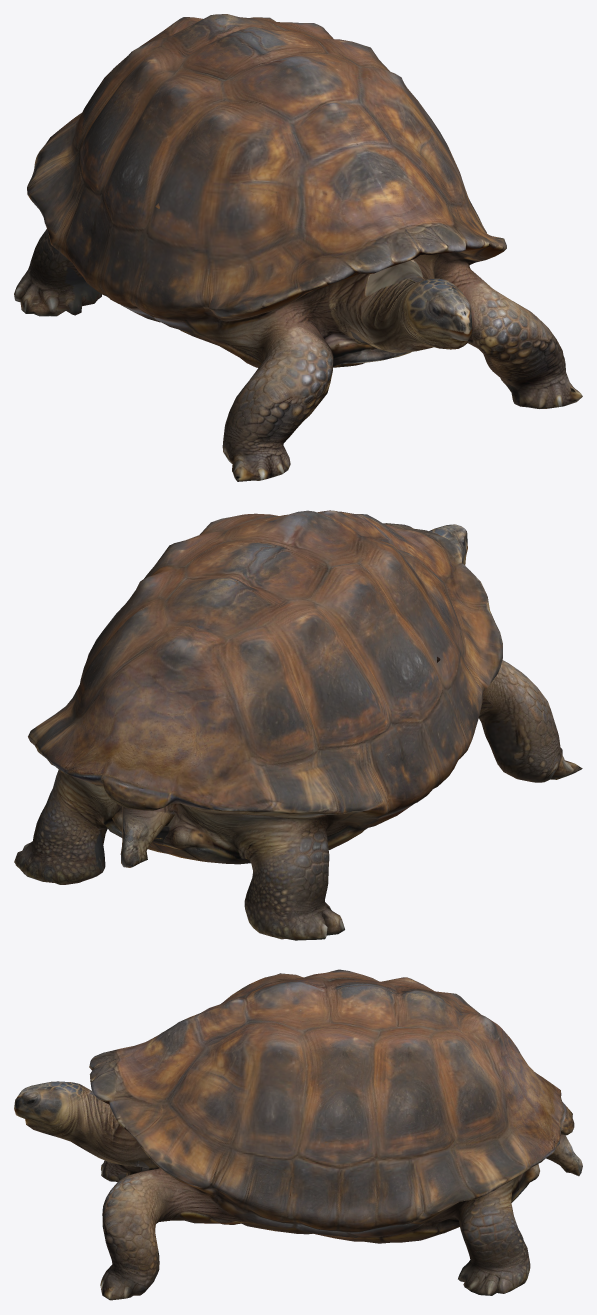
The model's file is Majestic_Tortoise_Str_0519041504_texture.glb.
3 renders of one model, top to bottom at view 1: azimuth 30°, elevation 25°; view 2: azimuth 150°, elevation 25°; view 3: azimuth 270°, elevation 25°, orthographic. The views are drawn at different scales.
Bounding box in the file's own units: 1.15 × 0.9536 × 1.96.
Materials: 1 (1 with a texture image).
